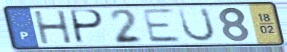2: (107, 7, 145, 45)
8: (217, 6, 252, 43)
E: (139, 7, 184, 44)
H: (32, 9, 75, 46)
P: (69, 8, 106, 46)
U: (176, 6, 218, 43)
